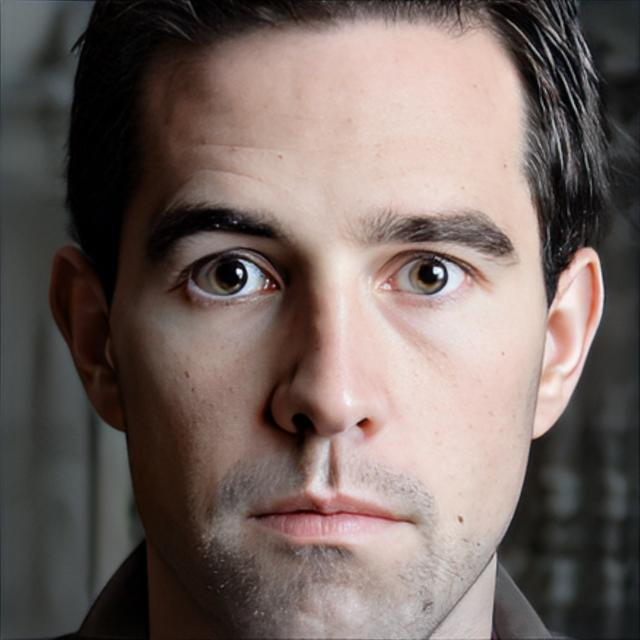surprise: (109, 0, 547, 640)
